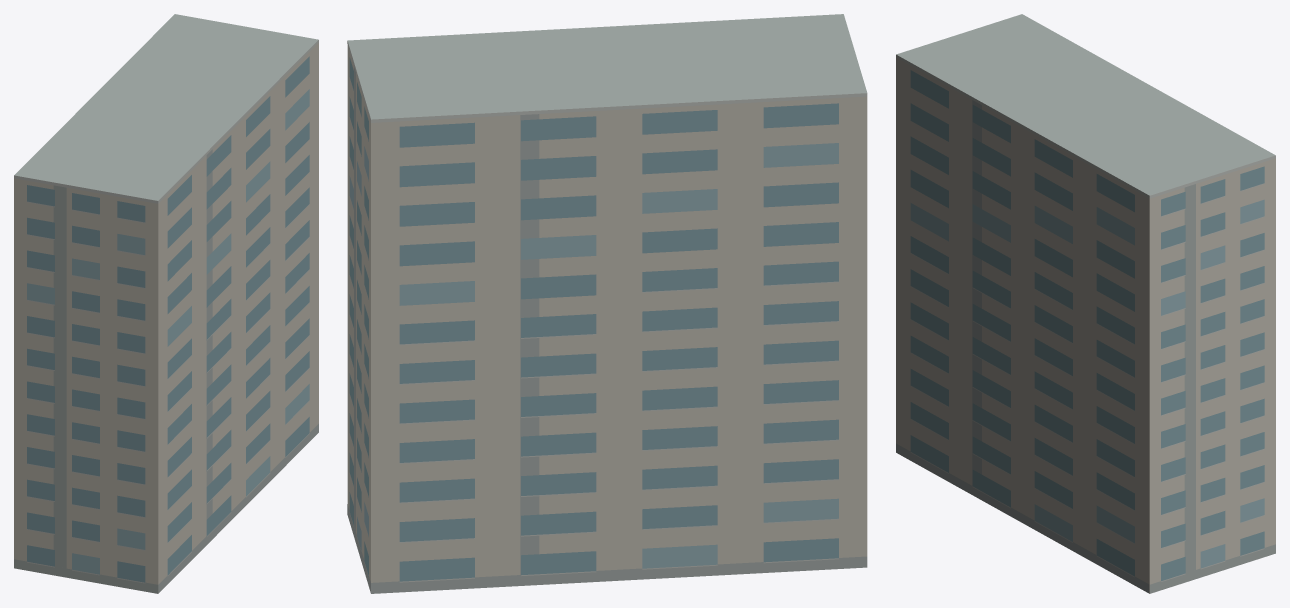
File: residential-fce4782f-1e0e-471f-97af-0794e22c8c80.glb
3 views of the same model, side by side, from view 1: azimuth 30°, elevation 25°; view 2: azimuth 150°, elevation 25°; view 3: azimuth 270°, elevation 25° (orthographic). The views are drawn at different scales.
Visible parts, largest first — view 1: residential-fce4782f-1e0e-471f-97af-0794e22c8c80.tmp; view 2: residential-fce4782f-1e0e-471f-97af-0794e22c8c80.tmp; view 3: residential-fce4782f-1e0e-471f-97af-0794e22c8c80.tmp.
Boxes of the visible parts, x1,y1,x2,y2 form: residential-fce4782f-1e0e-471f-97af-0794e22c8c80.tmp: [14, 14, 318, 593]; residential-fce4782f-1e0e-471f-97af-0794e22c8c80.tmp: [347, 14, 867, 593]; residential-fce4782f-1e0e-471f-97af-0794e22c8c80.tmp: [896, 14, 1275, 593].
Size of the model in its own units: 32.32 by 33 by 28.54.
